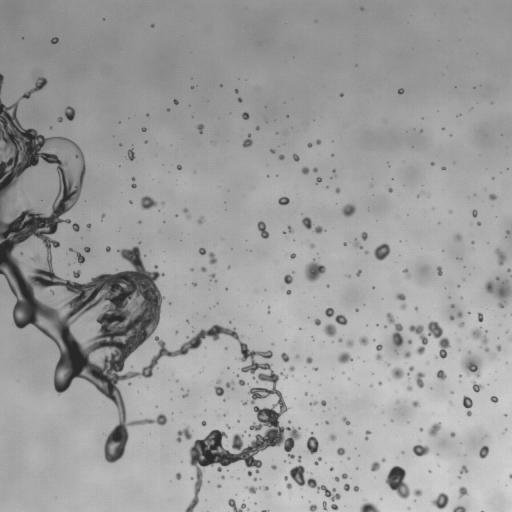droplet: (409, 321, 450, 358), (385, 465, 409, 498), (485, 281, 511, 308), (461, 355, 481, 377), (305, 260, 325, 281), (431, 492, 448, 509), (471, 327, 487, 345), (374, 243, 390, 260), (306, 434, 319, 453), (176, 427, 191, 442), (141, 196, 157, 209), (412, 444, 429, 456), (360, 501, 379, 511), (428, 422, 441, 436), (495, 249, 506, 265), (337, 352, 352, 363), (415, 372, 425, 388), (342, 204, 355, 216), (64, 106, 75, 120), (324, 324, 336, 336), (392, 367, 404, 379), (335, 314, 347, 325), (471, 381, 482, 392), (302, 217, 312, 229), (243, 134, 252, 147), (479, 445, 488, 458), (208, 252, 217, 264), (436, 370, 446, 380), (278, 196, 289, 205), (459, 486, 467, 498), (371, 461, 380, 471), (246, 486, 258, 493), (325, 308, 334, 317), (359, 336, 368, 345), (284, 274, 292, 284), (127, 149, 134, 160), (281, 353, 289, 362), (459, 465, 468, 473), (314, 226, 324, 233), (337, 447, 345, 455), (197, 124, 204, 133), (396, 293, 405, 300), (302, 166, 309, 174), (72, 223, 79, 231), (346, 339, 353, 347), (226, 381, 233, 389), (309, 504, 317, 511), (477, 312, 483, 321), (238, 379, 247, 385), (242, 112, 249, 119), (198, 248, 205, 255), (73, 270, 80, 277), (412, 400, 419, 407), (414, 489, 421, 496), (331, 503, 338, 510), (361, 232, 367, 240), (490, 396, 498, 402), (437, 266, 442, 275), (51, 37, 58, 43), (293, 154, 299, 161), (489, 194, 496, 200), (454, 234, 461, 240), (32, 255, 39, 261), (314, 318, 320, 325), (404, 351, 410, 358), (343, 483, 349, 490), (400, 303, 406, 309), (306, 357, 312, 363), (330, 434, 336, 440), (341, 473, 347, 479), (353, 485, 359, 491), (472, 210, 477, 217), (398, 88, 403, 94), (316, 177, 321, 183), (198, 217, 203, 223), (84, 247, 90, 252), (496, 345, 501, 351), (176, 473, 181, 479), (57, 117, 62, 122), (279, 154, 284, 159), (176, 165, 181, 170), (290, 253, 295, 258), (356, 270, 361, 275), (457, 312, 462, 317), (459, 322, 464, 327), (289, 366, 294, 371), (407, 385, 412, 390), (321, 400, 326, 405), (450, 432, 455, 437), (334, 476, 339, 481), (288, 226, 292, 232), (210, 273, 214, 279), (311, 401, 317, 405), (174, 99, 178, 104), (316, 139, 320, 144), (307, 143, 312, 147), (86, 224, 91, 228), (106, 246, 110, 251), (201, 267, 206, 271), (286, 290, 291, 294), (449, 316, 454, 320), (201, 421, 206, 425), (271, 465, 276, 469), (247, 471, 252, 475), (253, 477, 258, 481), (263, 486, 268, 490), (298, 456, 301, 462), (238, 98, 242, 102), (270, 149, 274, 153), (313, 168, 317, 172), (336, 188, 340, 192), (388, 188, 392, 192), (183, 208, 187, 212), (101, 214, 105, 218), (310, 243, 314, 247), (338, 338, 342, 342), (183, 393, 187, 397), (277, 491, 281, 495), (485, 347, 488, 352), (242, 401, 247, 404), (142, 127, 145, 131), (132, 184, 135, 188), (477, 221, 480, 225), (506, 230, 509, 234), (408, 340, 411, 344), (378, 382, 382, 385), (226, 425, 230, 428), (382, 458, 385, 462), (235, 89, 238, 92), (256, 126, 259, 129), (132, 177, 135, 180), (193, 283, 196, 286), (414, 307, 417, 310), (267, 310, 270, 313), (314, 367, 317, 370), (284, 375, 287, 378), (325, 421, 328, 424), (419, 428, 422, 431), (217, 484, 220, 487), (509, 474, 511, 478), (151, 24, 153, 27), (167, 108, 169, 111), (431, 162, 433, 165), (442, 167, 445, 169), (471, 241, 474, 243), (365, 251, 368, 253), (155, 265, 157, 268), (507, 269, 510, 271), (348, 431, 351, 433), (347, 457, 350, 459), (221, 476, 224, 478), (340, 94, 342, 96), (5, 200, 7, 202), (129, 201, 131, 203), (175, 214, 177, 216), (191, 268, 193, 270), (51, 291, 53, 293), (451, 304, 453, 306), (296, 355, 298, 357), (504, 429, 506, 431), (330, 468, 332, 470)
ligament: (0, 77, 294, 511), (289, 464, 340, 501), (386, 313, 403, 346), (228, 499, 249, 511), (69, 248, 84, 263), (462, 396, 472, 416), (257, 221, 268, 238), (214, 379, 223, 396), (284, 476, 292, 489), (376, 344, 382, 360), (353, 239, 362, 249), (452, 505, 465, 511), (342, 416, 350, 424), (0, 74, 3, 93), (407, 366, 414, 374), (314, 457, 321, 465), (403, 269, 409, 278), (365, 430, 370, 439), (322, 502, 327, 510), (262, 510, 269, 511), (510, 337, 511, 340)
